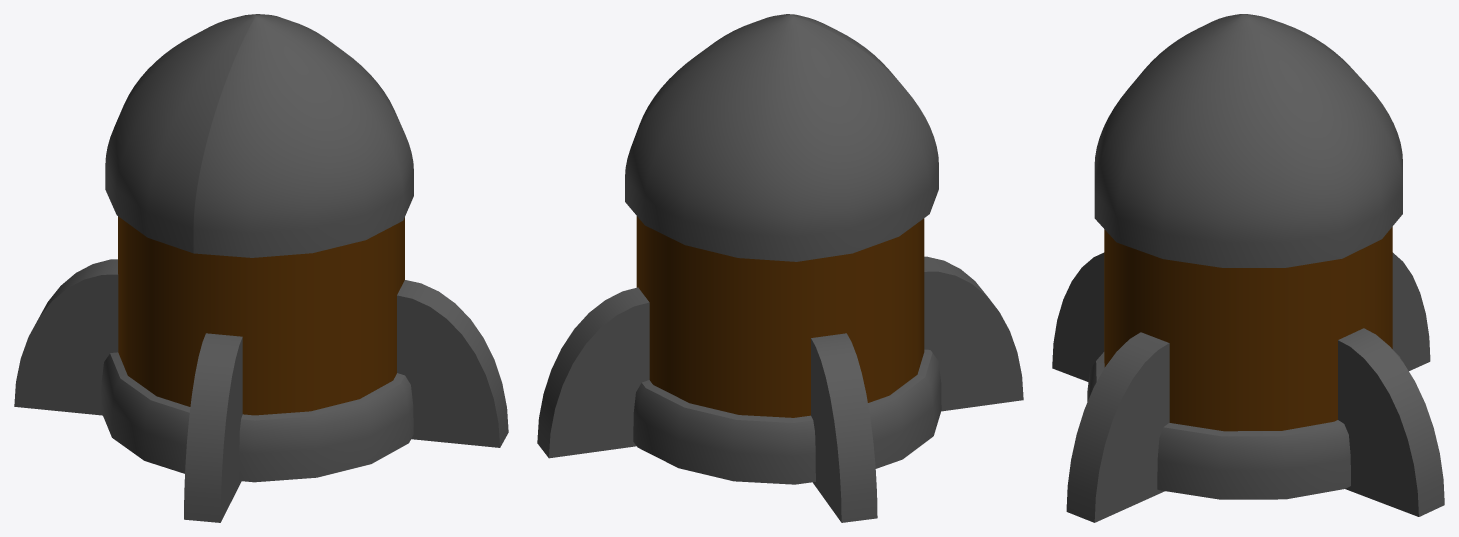
Rendered from shell.fbx.
3 renders of one model, left to right at view 1: azimuth 30°, elevation 25°; view 2: azimuth 150°, elevation 25°; view 3: azimuth 270°, elevation 25°, orthographic. The views are drawn at different scales.
Visible parts, largest first — view 1: Plane.003; view 2: Plane.003; view 3: Plane.003.
Part boxes in pixels (x1=…): Plane.003: x1=14, y1=14, x2=508, y2=522; Plane.003: x1=537, y1=14, x2=1023, y2=522; Plane.003: x1=1052, y1=14, x2=1444, y2=522.
Bounding box in the file's own units: 239 × 270 × 230.
